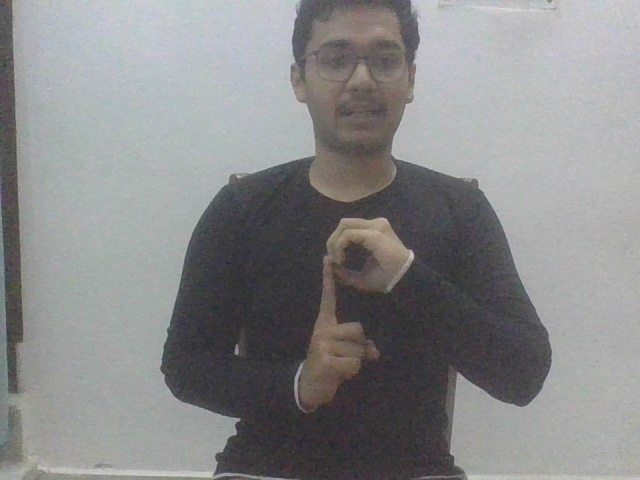P: (291, 215, 412, 414)
